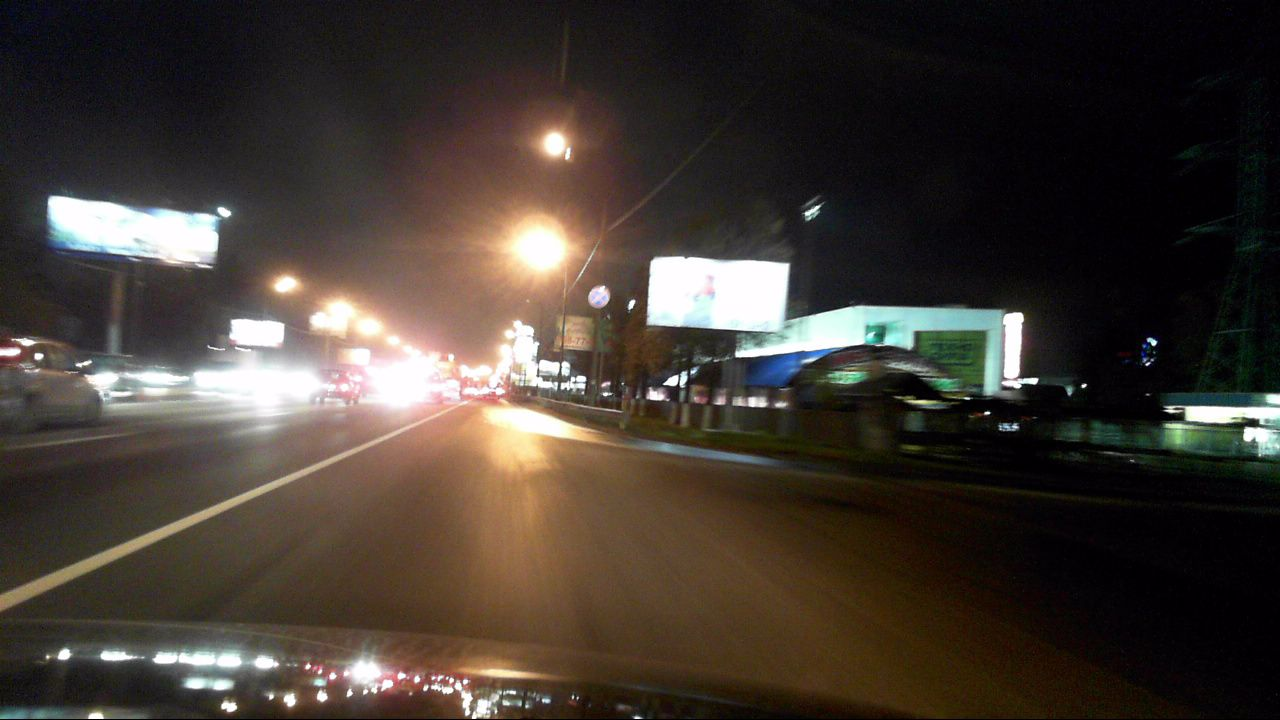No Parking: (588, 284, 610, 309)
